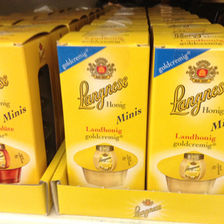honey: (56, 30, 148, 205), (150, 30, 224, 202)
